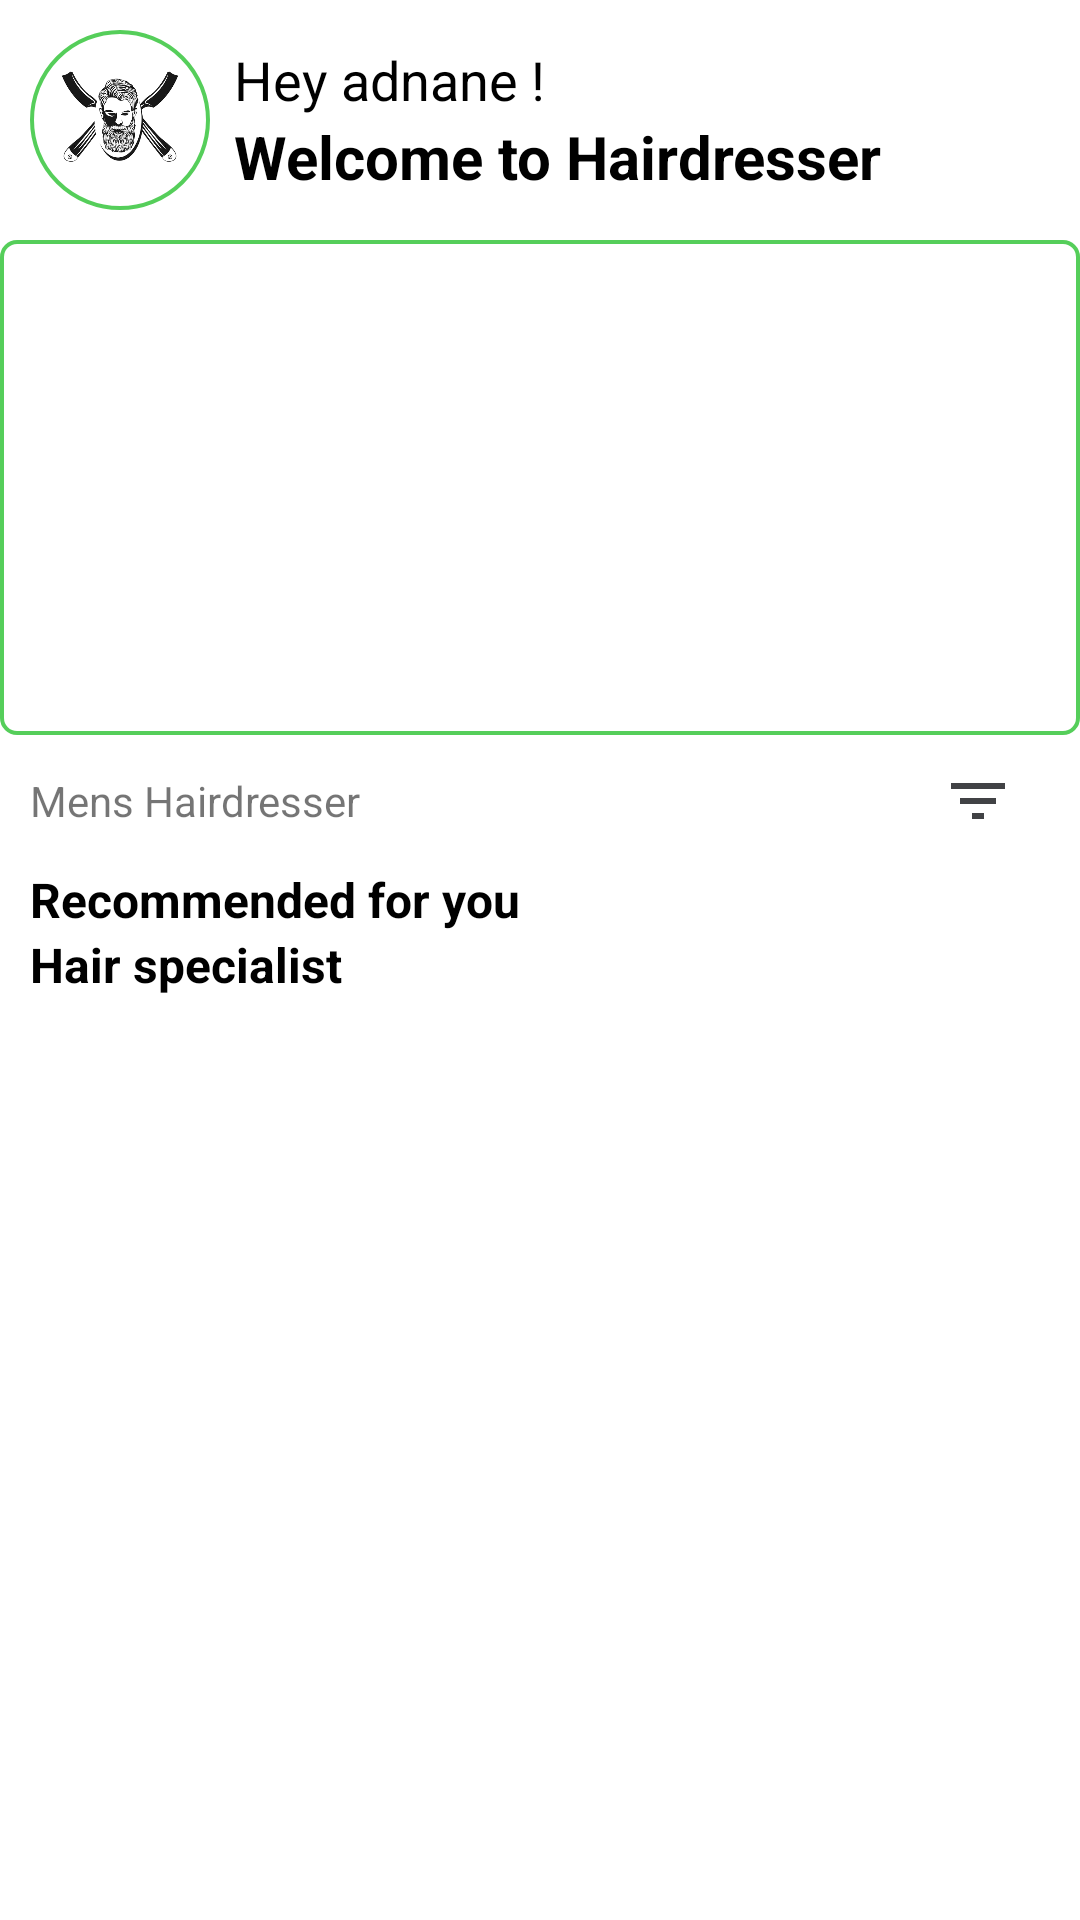

Where icons sit on this 1080 × 1920 app screen, as (x1, y1, x2, y2):
filter list: (951, 783, 1005, 819)
